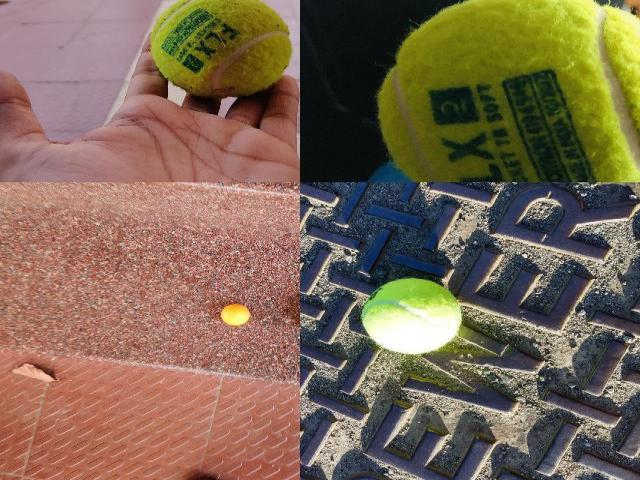tennis-ball: (379, 0, 639, 182), (150, 0, 293, 98), (361, 278, 462, 354)
